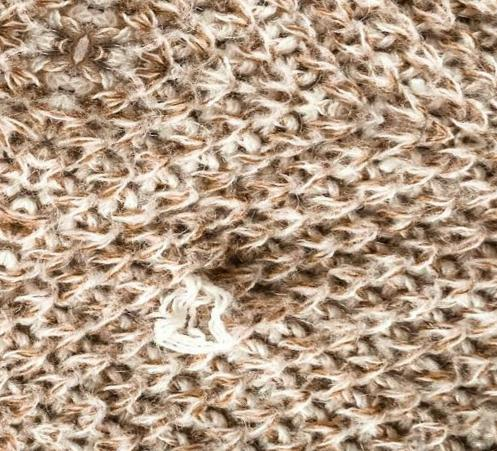snag: (138, 257, 263, 375)
